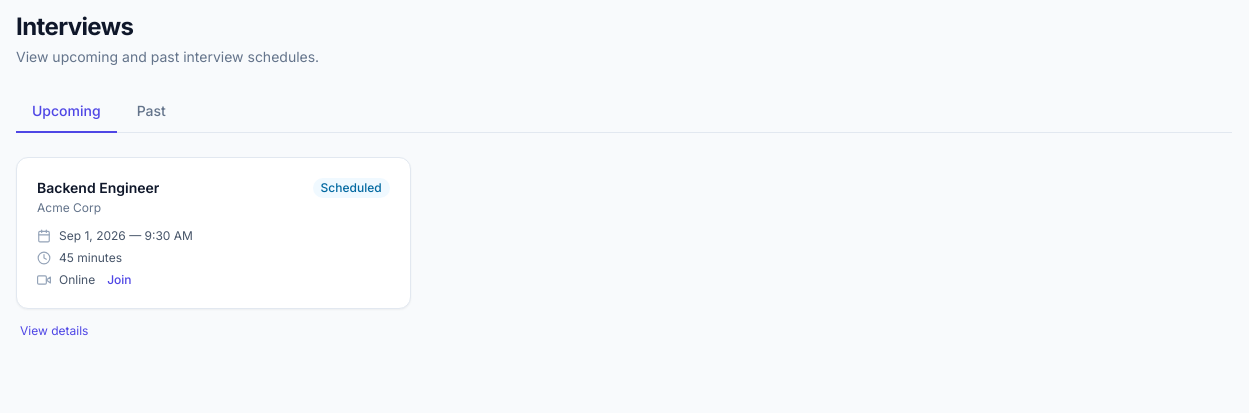
reaching the interview from the list › opens the details page from the interviews list
The image size is (1249, 413).
Click the link "View details". click: (54,330)
box: [20,323,88,338]
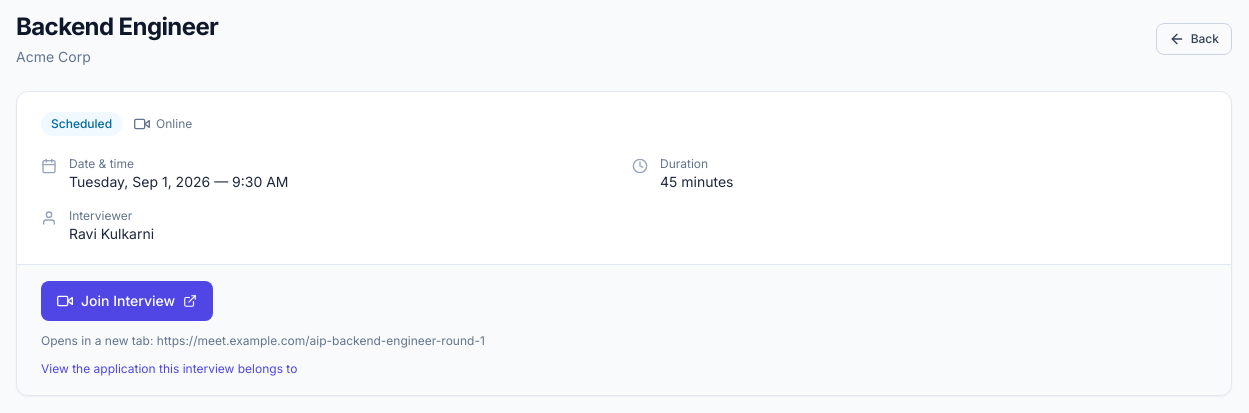
Now the link "Join Interview" is shown, box [41,281,213,321]
